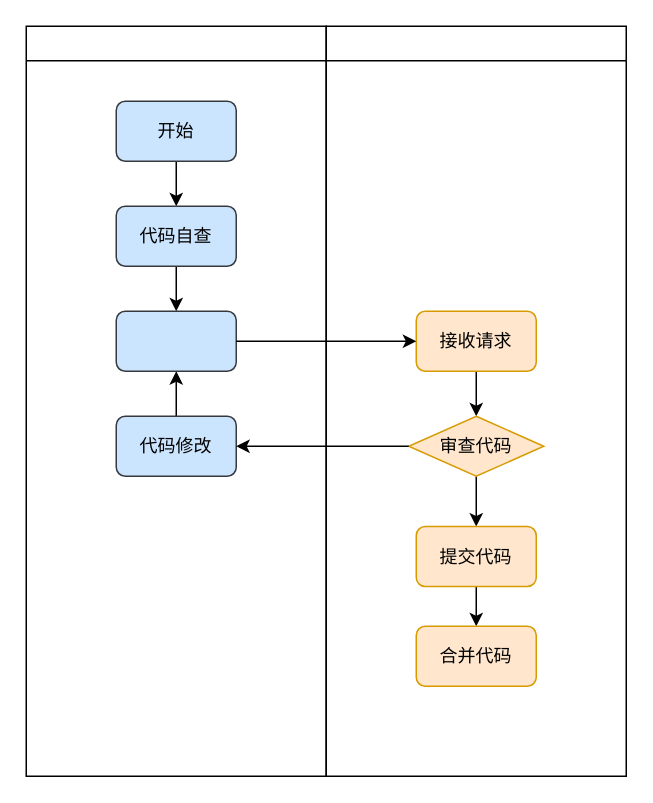
Image size: 653x803. Some labels were removed from this diagram. Each missing label, with the box of its shape:
代码审核者: (325, 25, 626, 776)
代码送审: (115, 310, 236, 371)
代码送审者: (25, 25, 326, 776)
